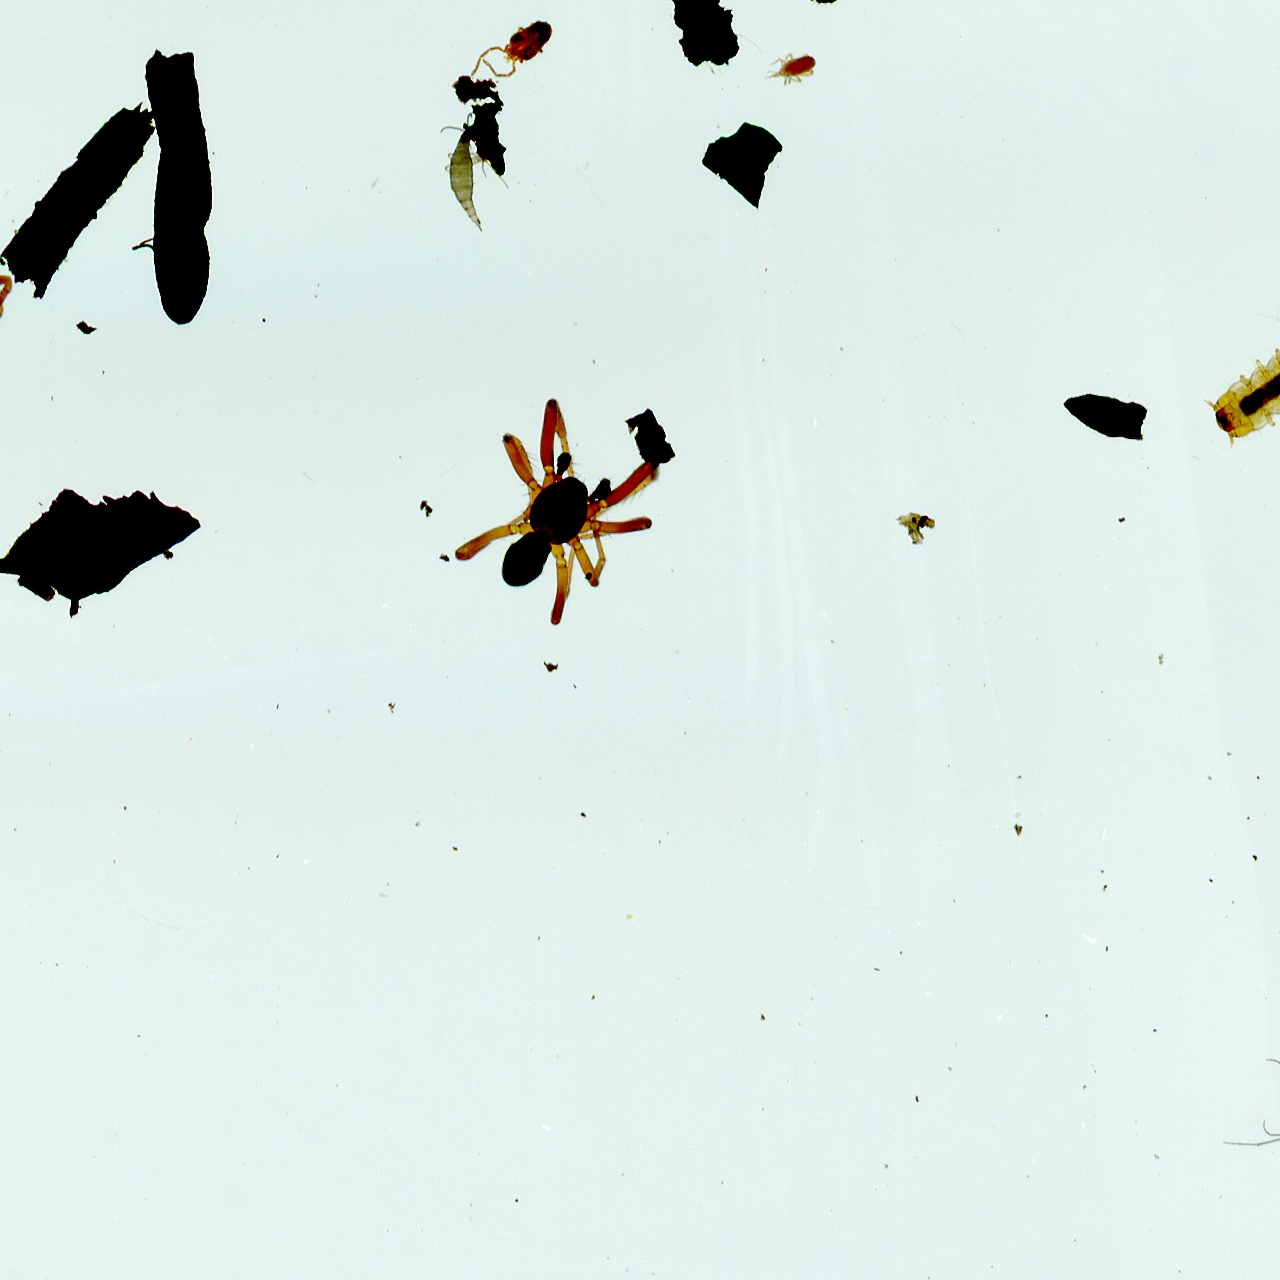arthropod: (454, 395, 656, 625), (1200, 233, 1280, 443), (1231, 1043, 1280, 1185), (443, 116, 486, 233), (470, 19, 553, 77), (767, 53, 821, 86)
